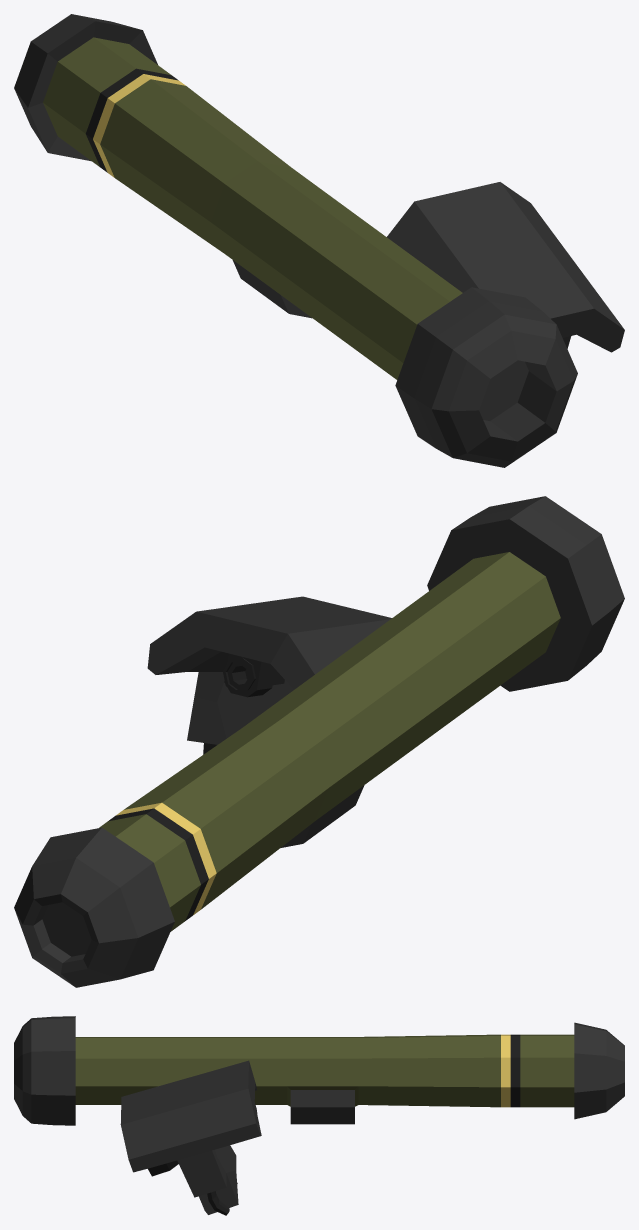
The model's file is Lvl4_Kraken_Gun_Model.fbx.
The picture shows the model from 3 angles, top to bottom: view 1: azimuth 30°, elevation 25°; view 2: azimuth 150°, elevation 25°; view 3: azimuth 270°, elevation 25°; orthographic projection. The views are drawn at different scales.
Parts seen in each view (by area): view 1: Cylinder.025; view 2: Cylinder.025; view 3: Cylinder.025.
Part boxes in pixels (box(x1,y1,x2,y2)): Cylinder.025: box(14, 14, 624, 467); Cylinder.025: box(14, 496, 624, 987); Cylinder.025: box(14, 1016, 624, 1215).
Bounding box in the file's own units: 84.14 × 66.96 × 247.
